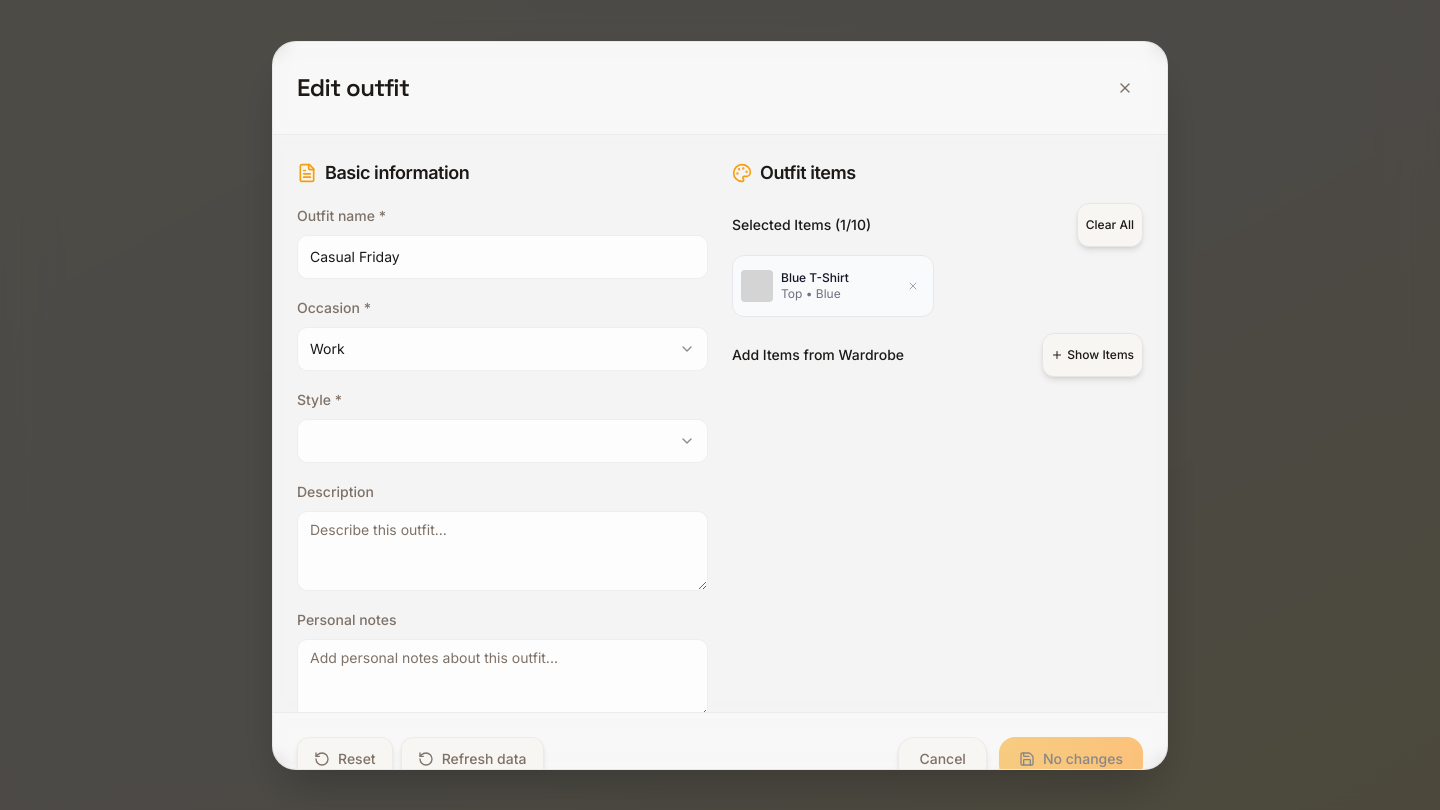
it: OutfitEditModal › validates required fields
The width and height of the screenshot is (1440, 810).
// Clear required fields
Clear the field showing "Casual Friday" at (502, 256), box [297, 234, 708, 278]
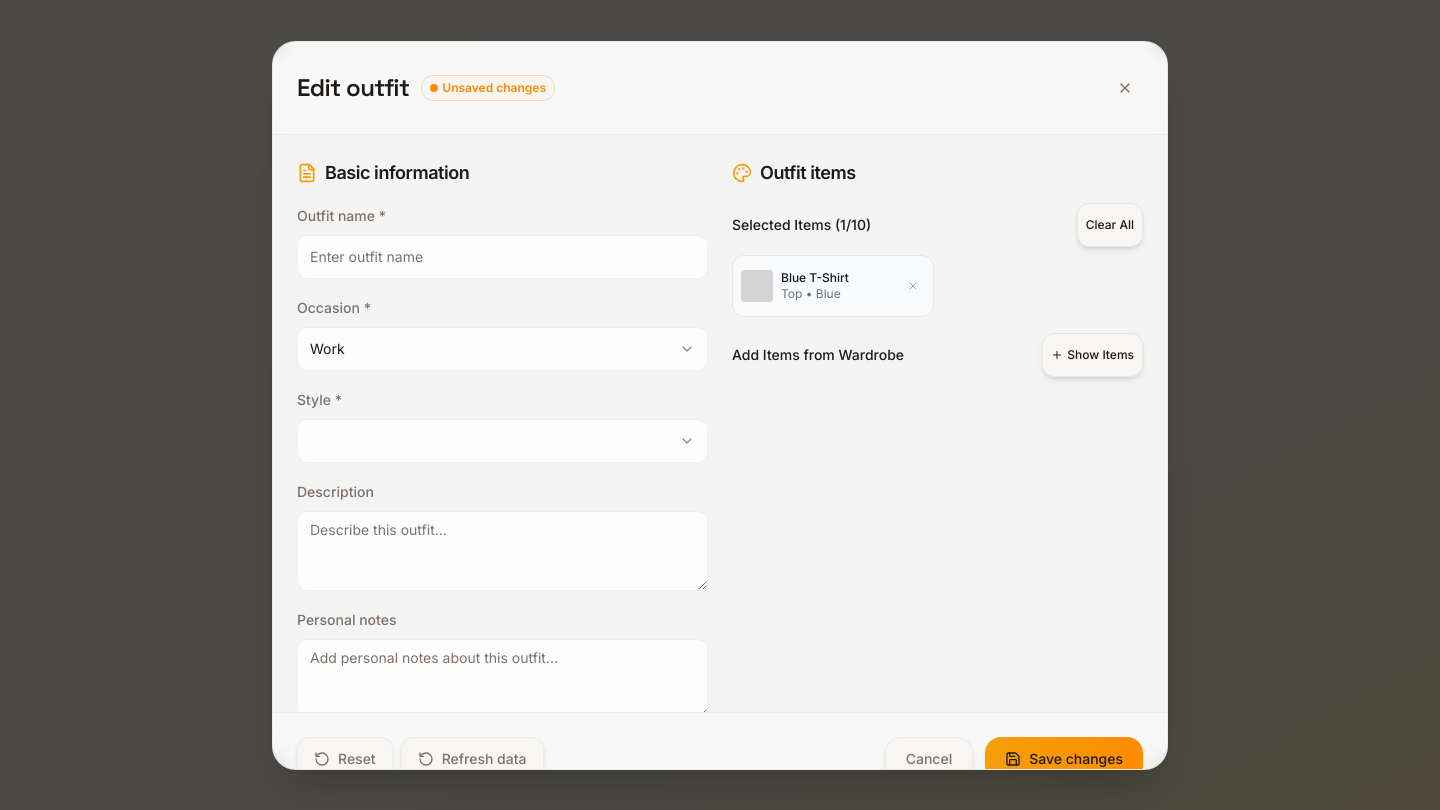
// Try to save
Click the button "Save changes" at (1064, 758), box [985, 736, 1143, 780]
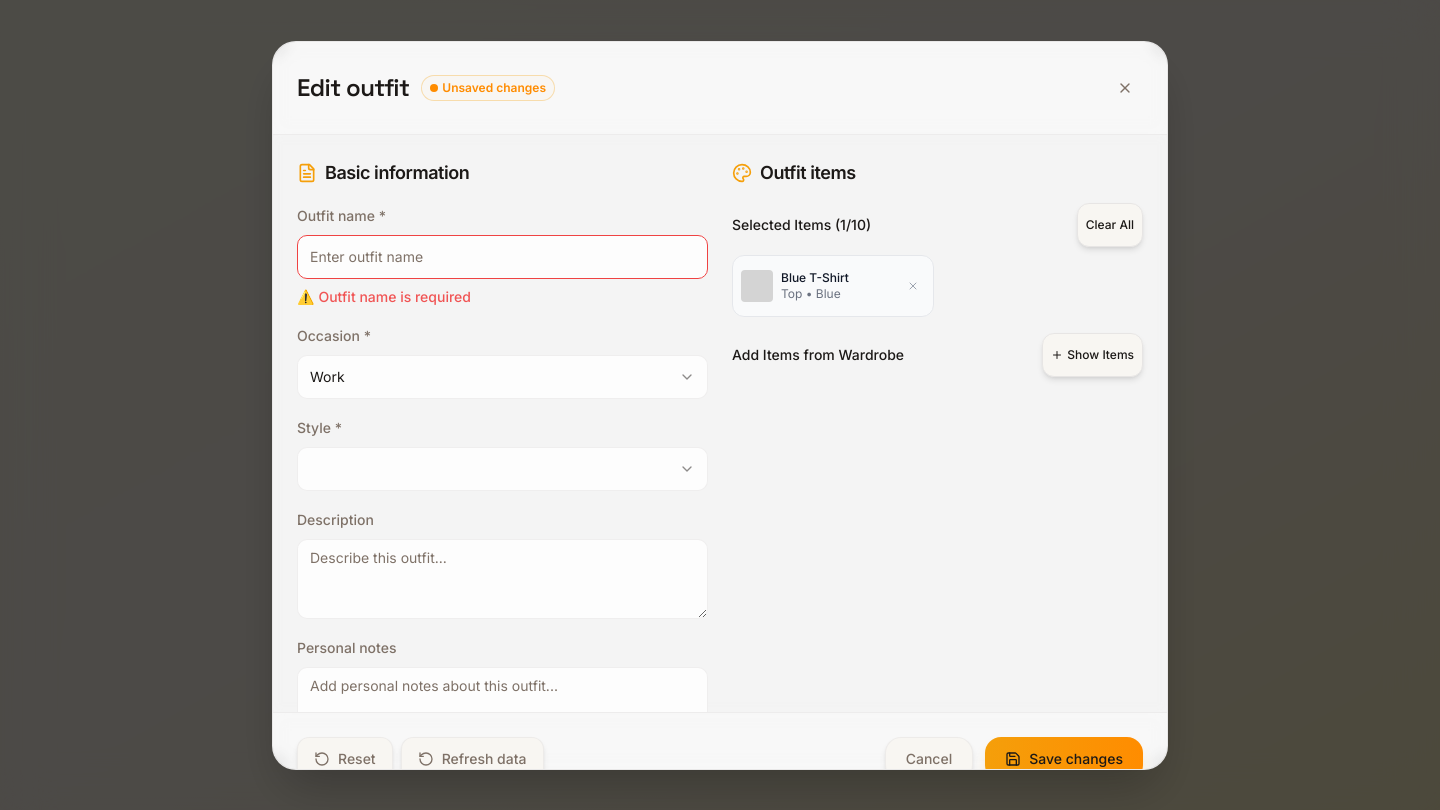
Expected: the text "Outfit name is required" is shown, [318, 286, 471, 306]
